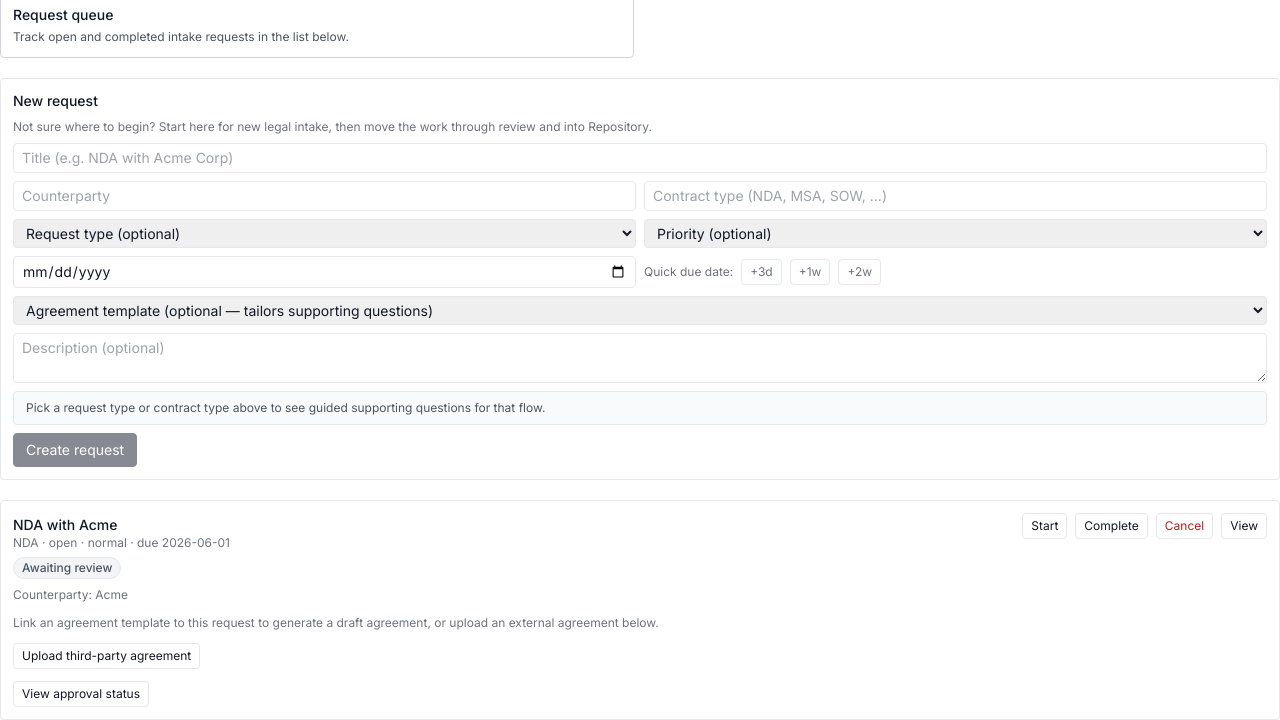
RequestsPage › shows the approval status section on toggle and renders matching policy
The image size is (1280, 720).
(page scrolled)
Expected: the link "NDA with Acme" is shown, [13,516,118,533]
Click the button with test id "request-approval-toggle": [81, 694] box [13,681,149,707]
(page scrolled)
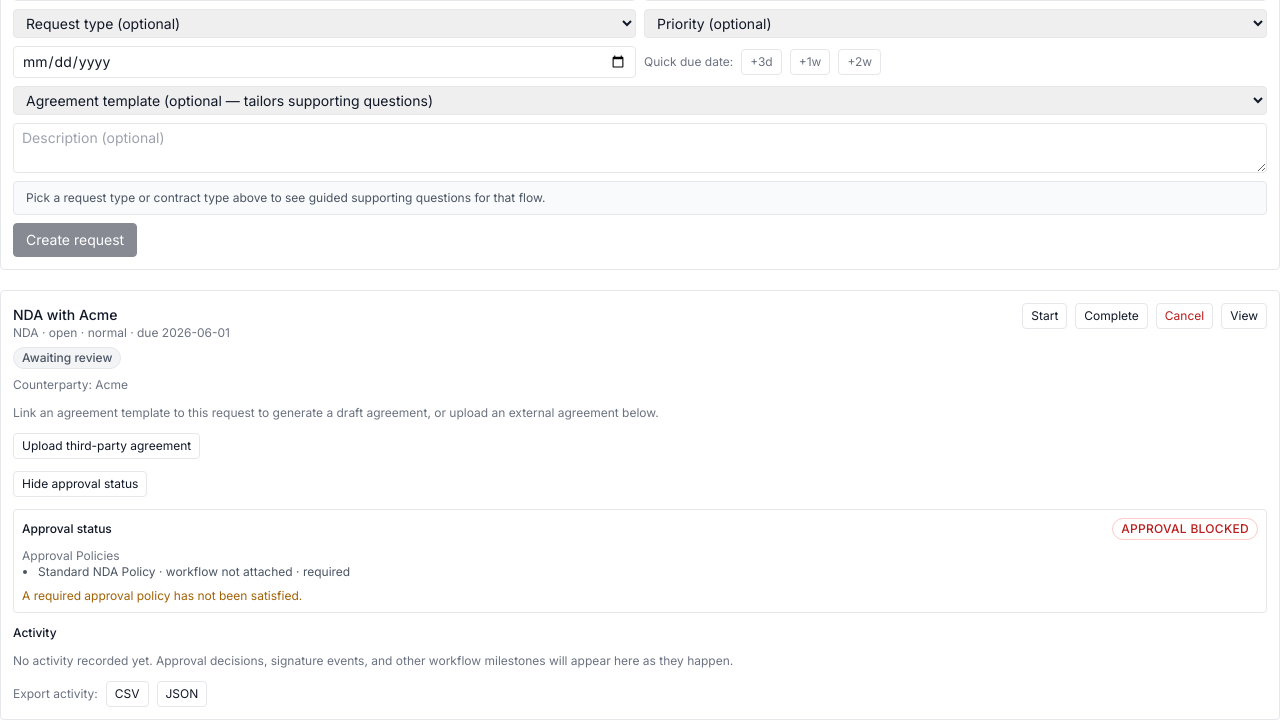
Result: the element with test id "request-approval-status" is shown at [13,509,1267,613]
Result: the list item with test id "request-approval-policy" shows "Standard NDA Policy" at [38,564,156,579]
Result: the text with test id "request-approval-blocking-reason" shows "required approval policy" at [22,588,302,603]
